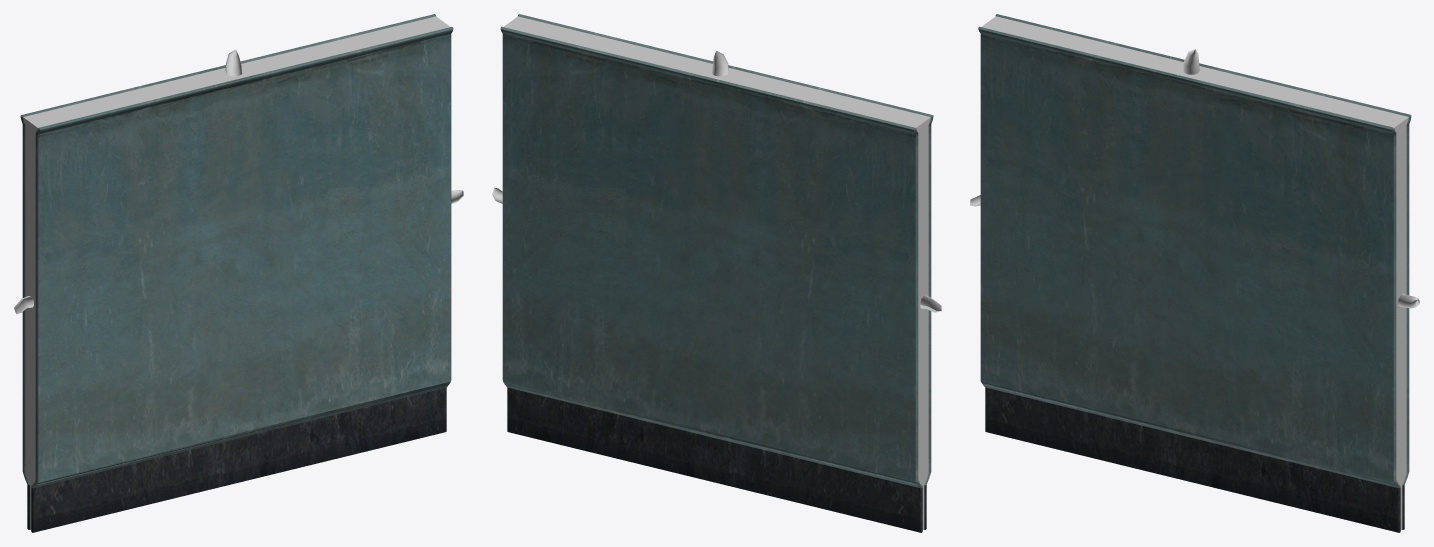
File: 01_01_corridor_wall_flat_short_broken_bottom01.dae
3 views of the same model, side by side, from view 1: azimuth 30°, elevation 25°; view 2: azimuth 150°, elevation 25°; view 3: azimuth 330°, elevation 25° (orthographic).
Parts seen in each view (by area): view 1: polySurface85, polySurface83, polySurface81; view 2: polySurface85, polySurface83, polySurface81; view 3: polySurface85, polySurface83, polySurface81.
Part boxes in pixels (<box>): polySurface85: <box>20,14,453,532</box>; polySurface83: <box>23,16,449,530</box>; polySurface81: <box>14,49,463,313</box>; polySurface85: <box>500,14,933,532</box>; polySurface83: <box>504,16,930,530</box>; polySurface81: <box>492,50,941,312</box>; polySurface85: <box>978,14,1411,532</box>; polySurface83: <box>981,16,1408,530</box>; polySurface81: <box>970,49,1419,308</box>.
Bounding box in the file's own units: 2.17 × 2 × 0.167.
